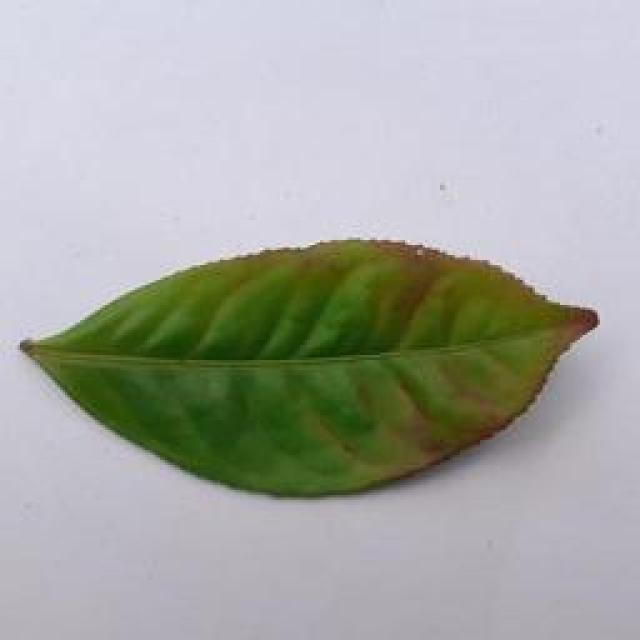Red Leaf Spot: (10, 224, 618, 498)
